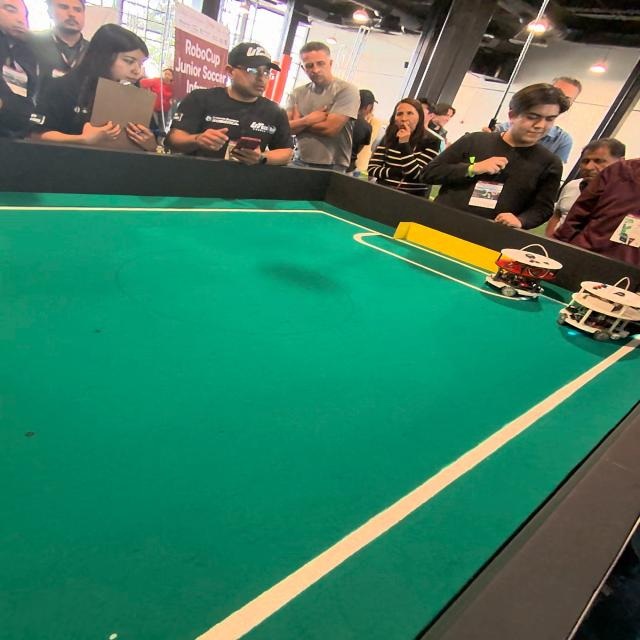Robot: (554, 277, 634, 346), (483, 244, 551, 308)
